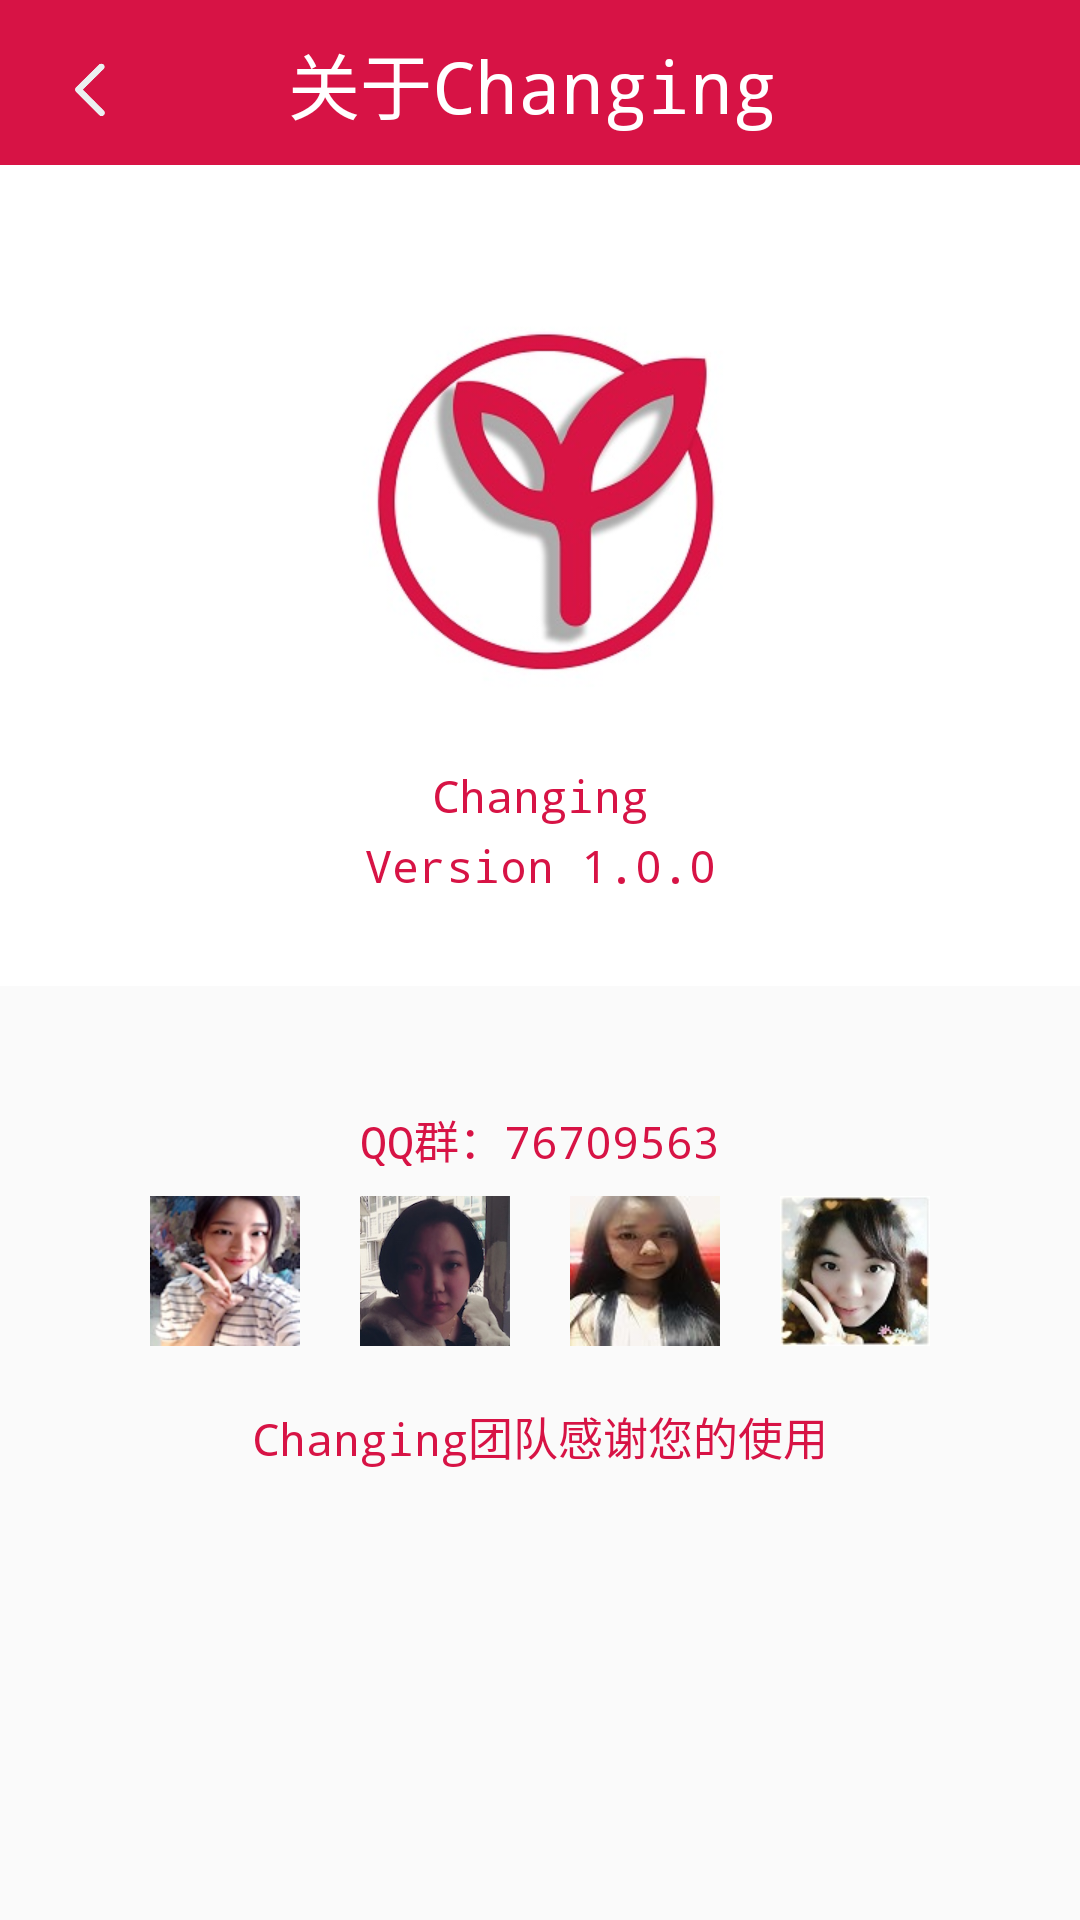

Where to tap for icons on this 1080x1920 app screen, as point (x, y):
back: point (90, 89)
